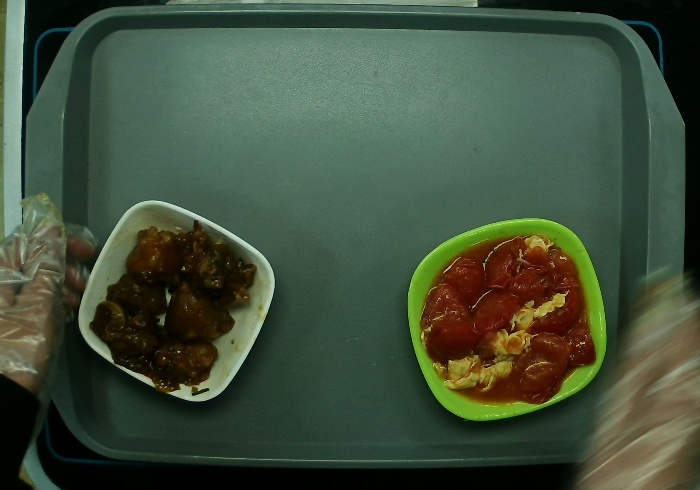SHKJ-Bai_Se_Xiao_Fang_Die: (77, 196, 276, 406)
SHKJ-Lv_Se_Cai_Die: (405, 215, 610, 422)
